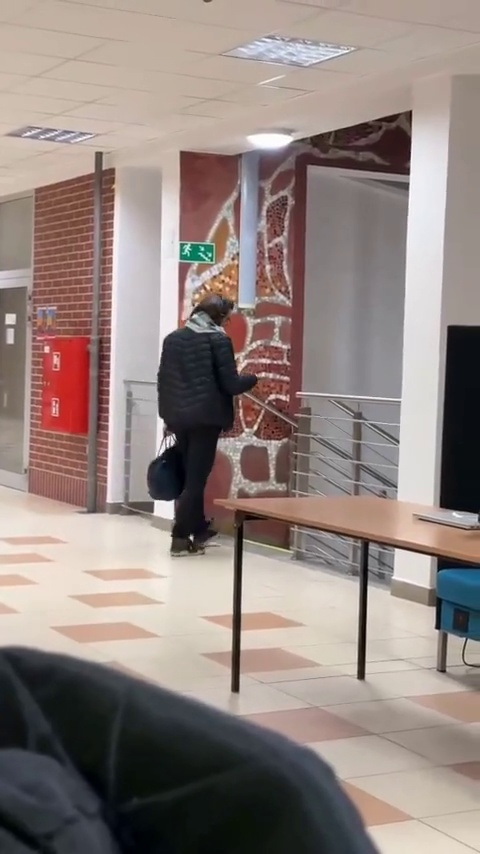no vest: (154, 293, 254, 553)
